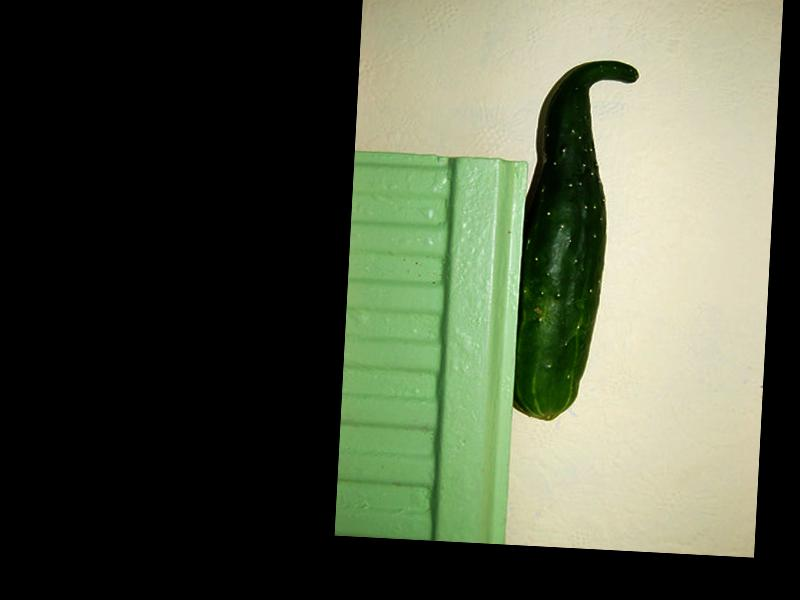Cucumber: (512, 55, 638, 423)
